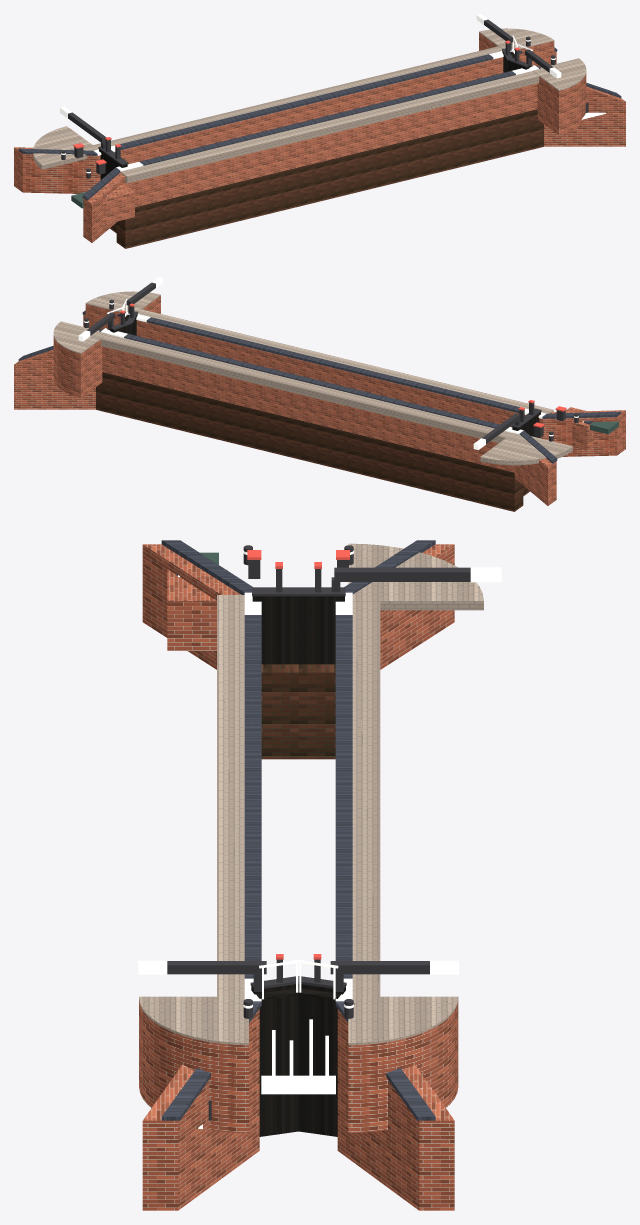
File: lock-44.glb
The picture shows the model from 3 angles, top to bottom: view 1: azimuth 30°, elevation 25°; view 2: azimuth 150°, elevation 25°; view 3: azimuth 270°, elevation 25°; orthographic projection. The views are drawn at different scales.
Visible parts, largest first — view 1: Chamber, ChamberWet, Edge, Coping.001, TopGateCap, Coping, TopGate; view 2: Chamber, ChamberWet, Edge, Coping.001, TopGateCap, Coping, TopGate; view 3: Chamber, Edge, Coping.001, TopGate, TopGateCap, ChamberWet, Coping, Leak.
Boxes of the visible parts, x1,y1,x2,y2 form: Chamber: [14, 33, 625, 242]; ChamberWet: [110, 109, 543, 248]; Edge: [33, 28, 586, 183]; Coping.001: [18, 47, 621, 200]; TopGateCap: [61, 19, 588, 178]; Coping: [60, 14, 561, 173]; TopGate: [99, 51, 532, 179]; Chamber: [14, 296, 625, 505]; ChamberWet: [96, 372, 529, 511]; Edge: [53, 291, 572, 465]; Coping.001: [18, 310, 621, 463]; TopGateCap: [84, 282, 578, 443]; Coping: [78, 277, 578, 450]; TopGate: [107, 314, 540, 437]; Chamber: [139, 544, 458, 1210]; Edge: [139, 543, 483, 1045]; Coping.001: [161, 540, 435, 1120]; TopGate: [251, 596, 345, 1136]; TopGateCap: [167, 545, 470, 1120]; ChamberWet: [261, 664, 335, 759]; Coping: [138, 550, 501, 1008]; Leak: [178, 575, 335, 1128].
Bounding box in the file's own units: 34.85 × 5.73 × 10.24.
11 materials, 8 textured.
